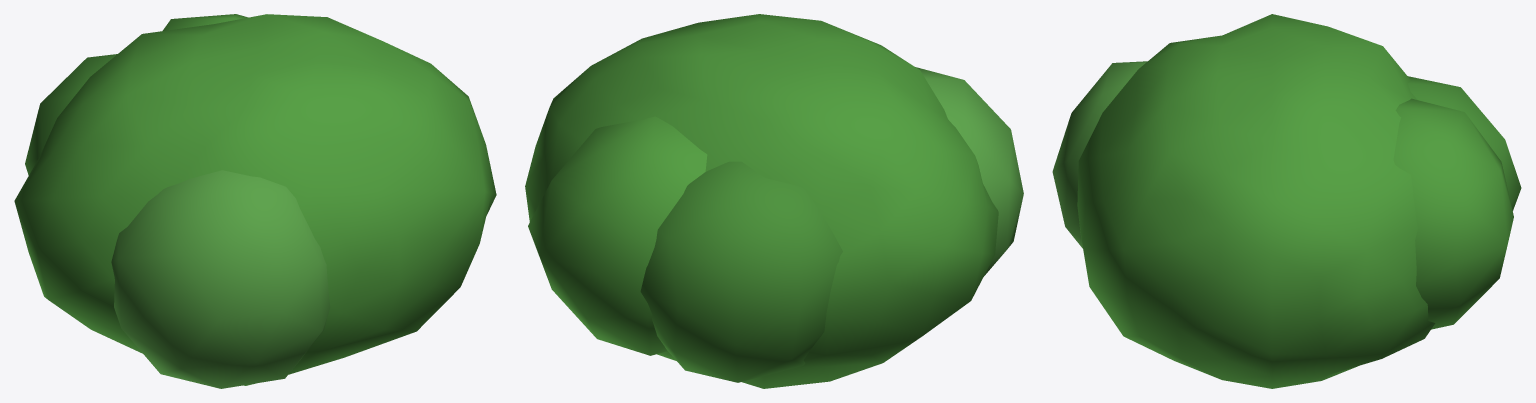
Rendered from bush_a.fbx.
The picture shows the model from 3 angles, left to right: view 1: azimuth 30°, elevation 25°; view 2: azimuth 150°, elevation 25°; view 3: azimuth 270°, elevation 25°; orthographic projection. The views are drawn at different scales.
Parts seen in each view (by area): view 1: bush_a_leaves; view 2: bush_a_leaves; view 3: bush_a_leaves.
Part boxes in pixels (bbox=[...]): bush_a_leaves: bbox=[14, 14, 496, 388]; bush_a_leaves: bbox=[525, 14, 1023, 388]; bush_a_leaves: bbox=[1052, 14, 1521, 388].
Size of the model in its own units: 0.7288 by 0.509 by 0.7086.
